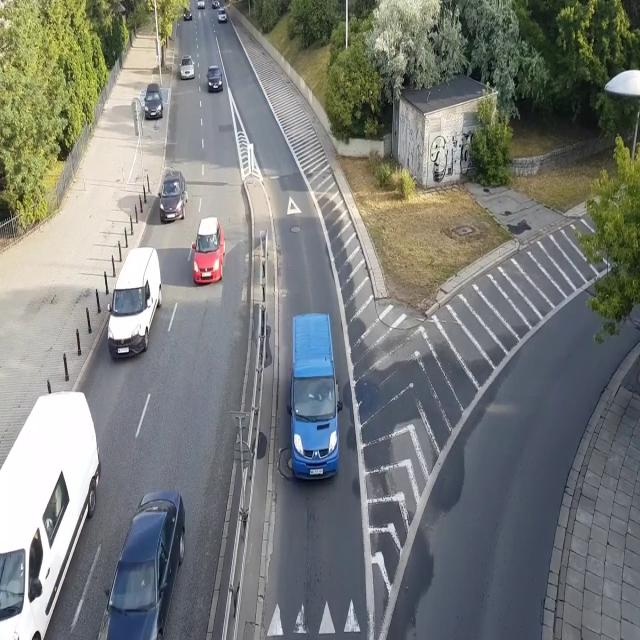car: (96, 488, 186, 640), (190, 216, 227, 284), (158, 170, 189, 220), (144, 82, 164, 117), (206, 65, 223, 92), (178, 54, 195, 80), (218, 8, 228, 24), (182, 7, 192, 21), (197, 0, 205, 10), (212, 0, 220, 10)
van: (0, 391, 101, 640), (287, 310, 342, 483), (106, 247, 162, 360)
